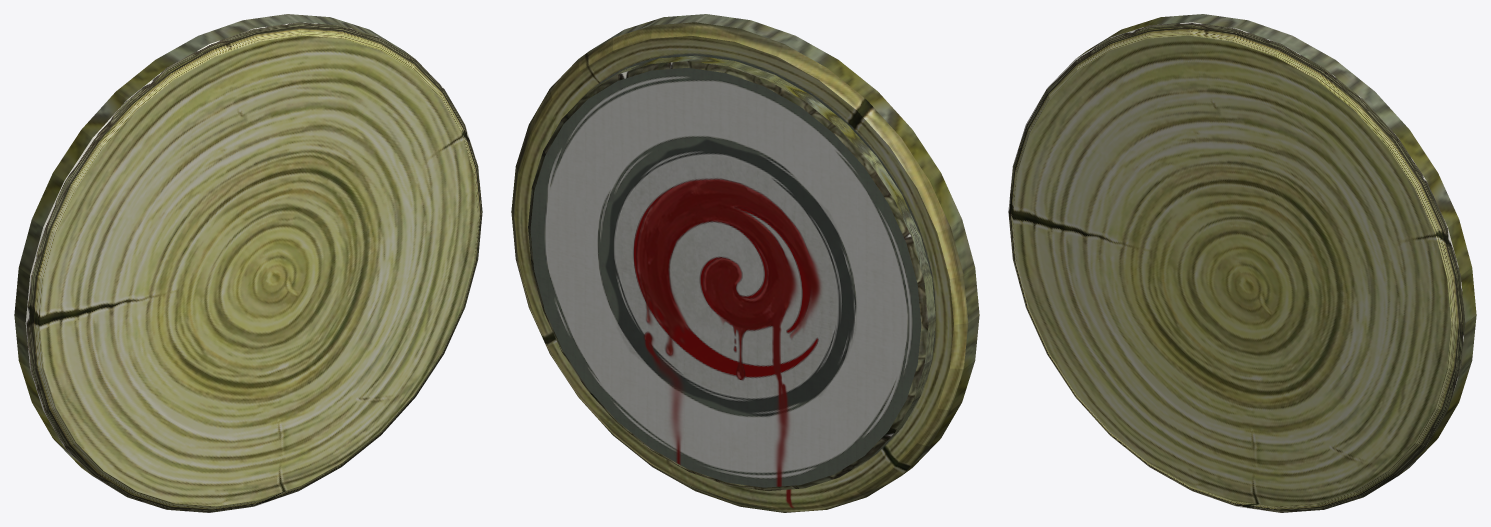
File: ShootingTarget.fbx
The picture shows the model from 3 angles, left to right: view 1: azimuth 30°, elevation 25°; view 2: azimuth 150°, elevation 25°; view 3: azimuth 330°, elevation 25°; orthographic projection.
Visible parts, largest first — view 1: Cylinder; view 2: Cylinder; view 3: Cylinder.
Boxes of the visible parts, left/top/right/bottom form: Cylinder: left=14, top=14, right=482, bottom=512; Cylinder: left=511, top=14, right=979, bottom=512; Cylinder: left=1008, top=14, right=1476, bottom=512.
Bounding box in the file's own units: 60.41 × 60.41 × 6.83.
Materials: 1 (1 with a texture image).
